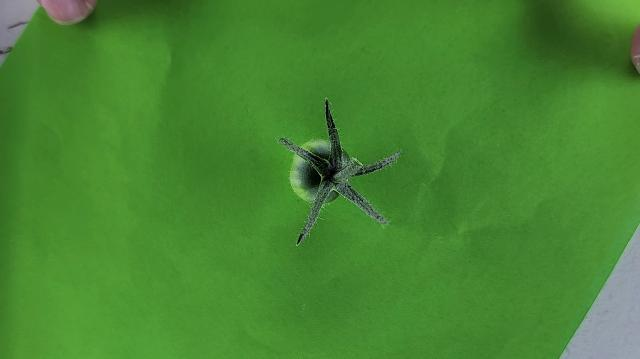Fruit Maturation: (287, 138, 349, 206)
